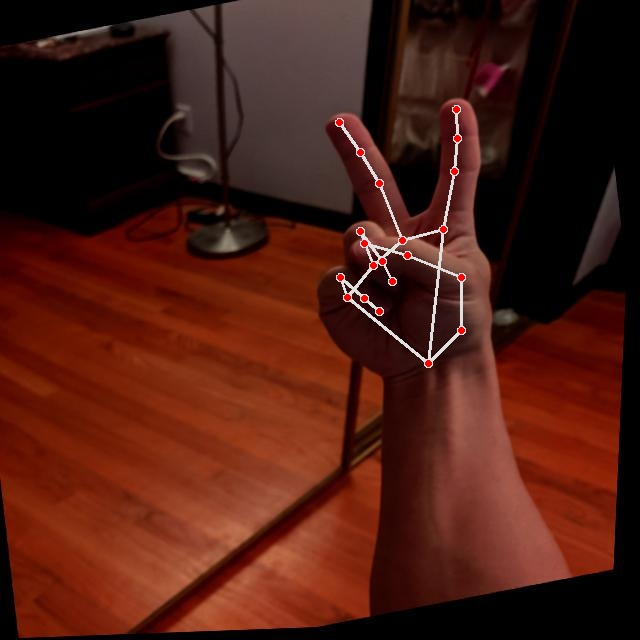V: (281, 83, 529, 399)
